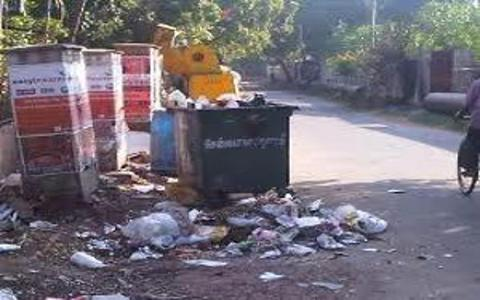overflowing garbage: (169, 95, 304, 252)
